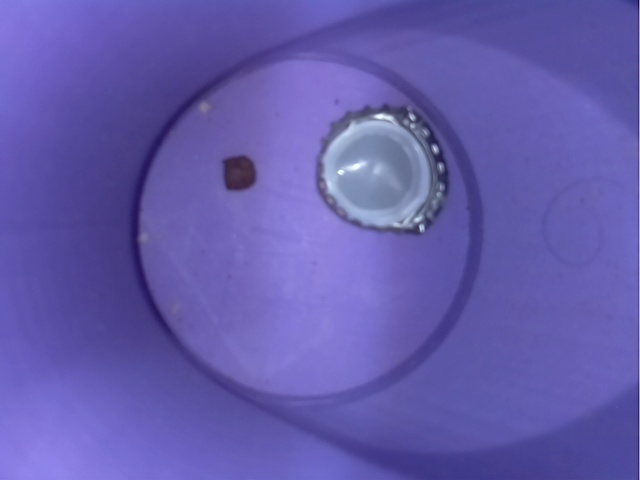capsule: (301, 84, 456, 244)
croquette: (210, 137, 263, 198)
